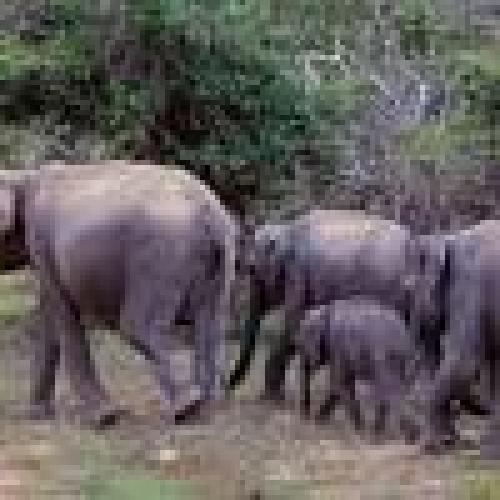asian_elephant-endangered: (0, 163, 239, 424), (230, 201, 414, 425), (403, 218, 500, 448), (291, 304, 416, 430)
